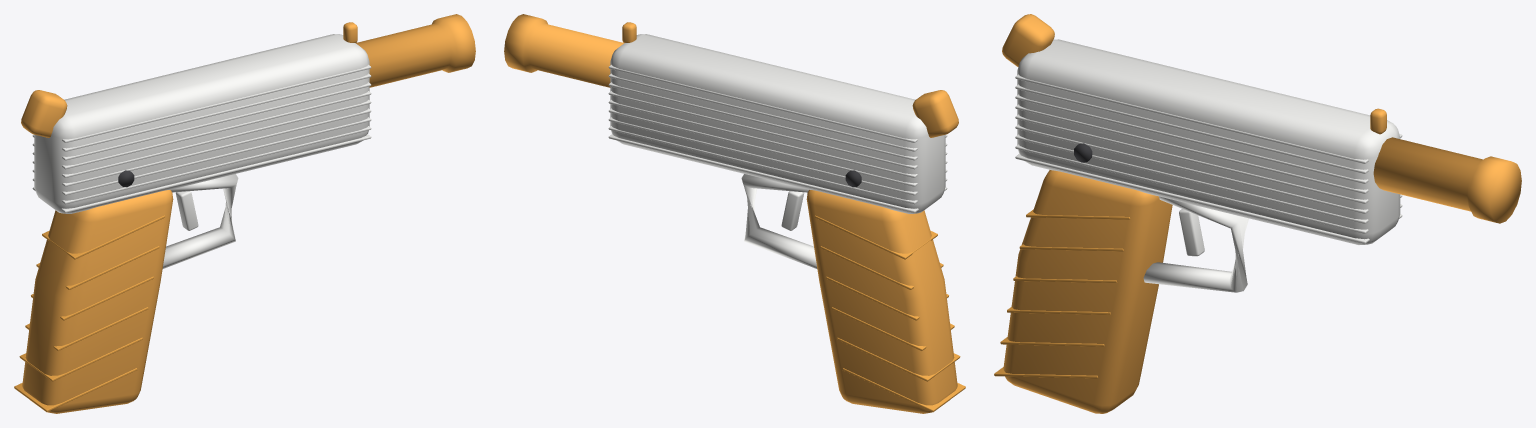
File: SM_PrintPistol.glb
The picture shows the model from 3 angles, left to right: view 1: azimuth 30°, elevation 25°; view 2: azimuth 150°, elevation 25°; view 3: azimuth 330°, elevation 25°; orthographic projection. The views are drawn at different scales.
Parts seen in each view (by area): view 1: SM_PrintPistol; view 2: SM_PrintPistol; view 3: SM_PrintPistol.
Boxes of the visible parts, box(x1,y1,x2,y2) form: SM_PrintPistol: box(14, 14, 475, 413); SM_PrintPistol: box(504, 14, 965, 413); SM_PrintPistol: box(994, 14, 1521, 413).
Bounding box in the file's own units: 0.2361 × 0.1654 × 0.034.
